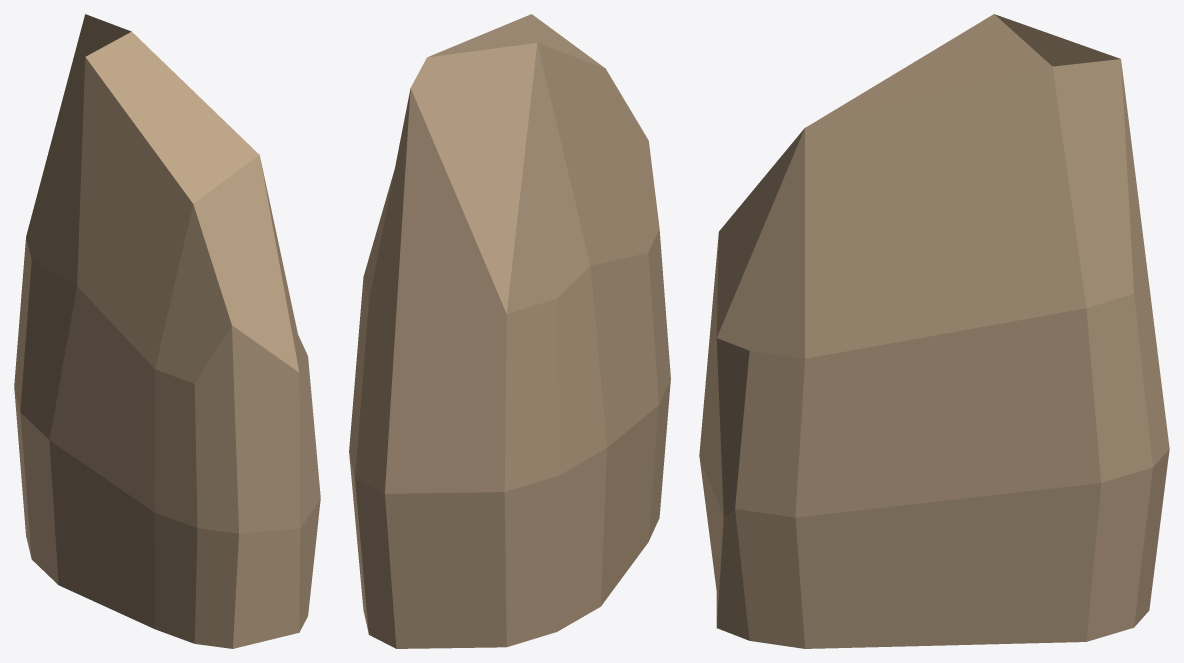
Rendered from rock_2.FBX.
The picture shows the model from 3 angles, left to right: view 1: azimuth 30°, elevation 25°; view 2: azimuth 150°, elevation 25°; view 3: azimuth 270°, elevation 25°; orthographic projection. The views are drawn at different scales.
Visible parts, largest first — view 1: rock_2; view 2: rock_2; view 3: rock_2.
Boxes of the visible parts, x1,y1,x2,y2 form: rock_2: (14, 14, 320, 648); rock_2: (349, 14, 670, 648); rock_2: (699, 14, 1169, 648).
Bounding box in the file's own units: 1095 × 2871 × 2164.
